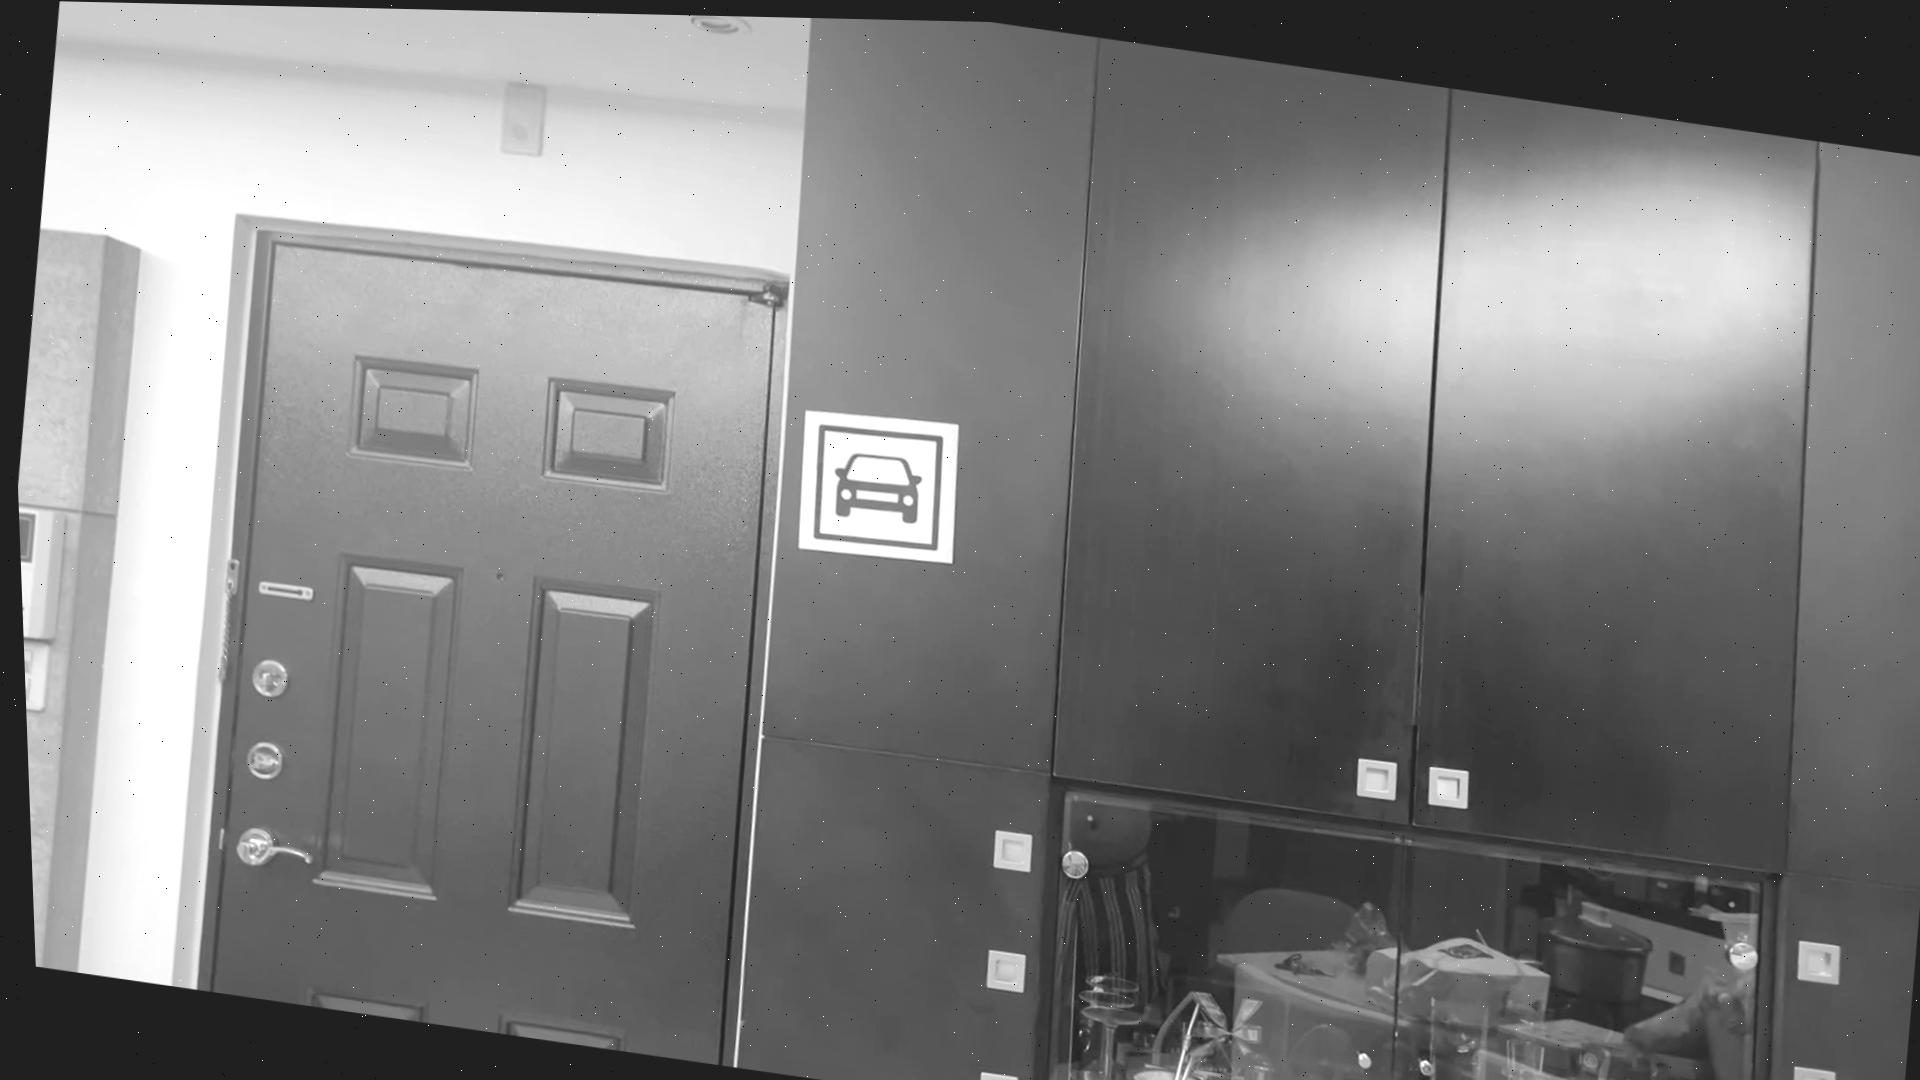car_img: (796, 409, 951, 555)
